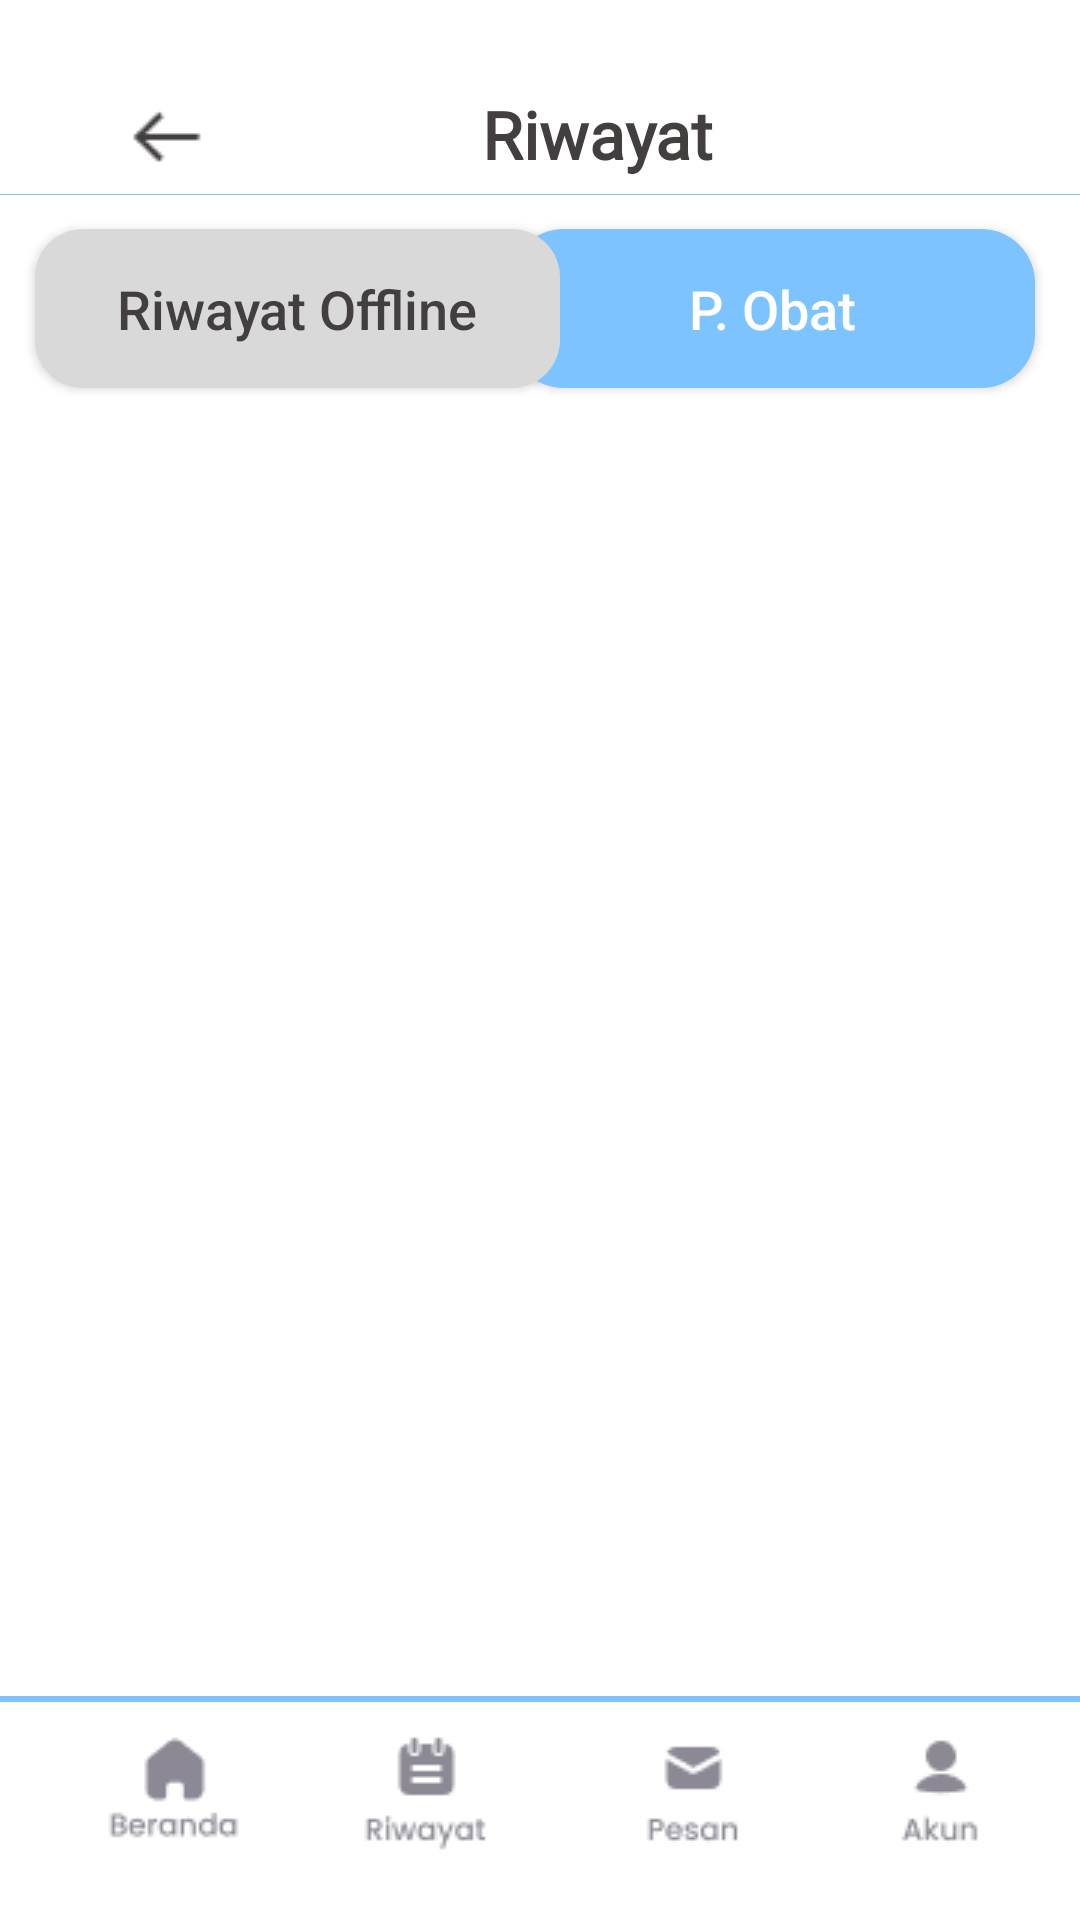

Where to tap for icons on this 1080w x 1920h app screen, as point (x, y):
arrowleft: point (167, 137)
